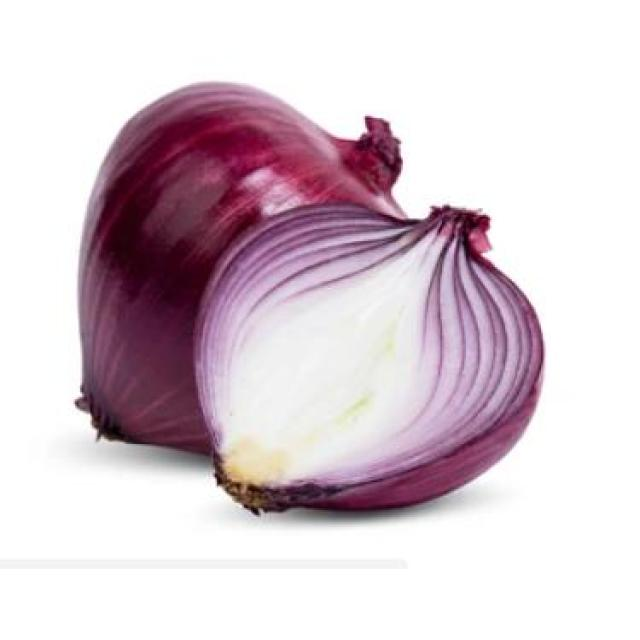Onion: (197, 195, 537, 518)
